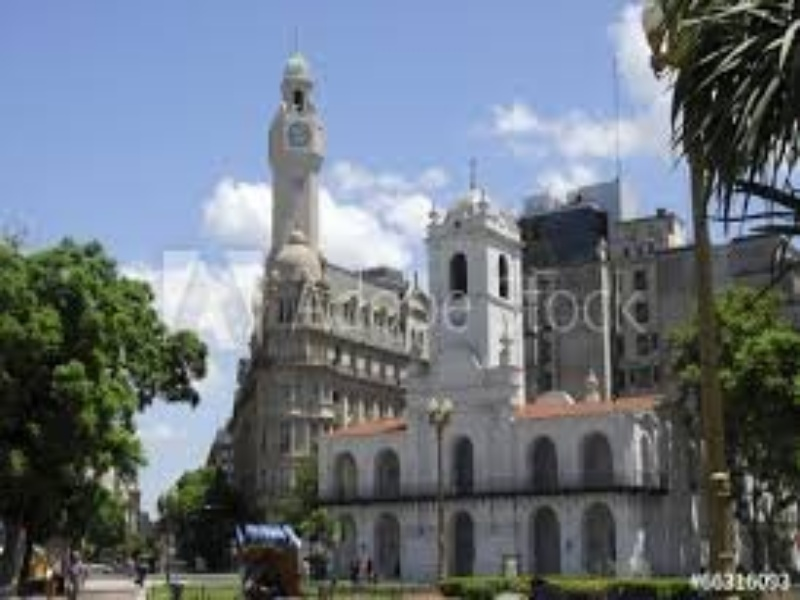cabildo: (312, 156, 673, 578)
